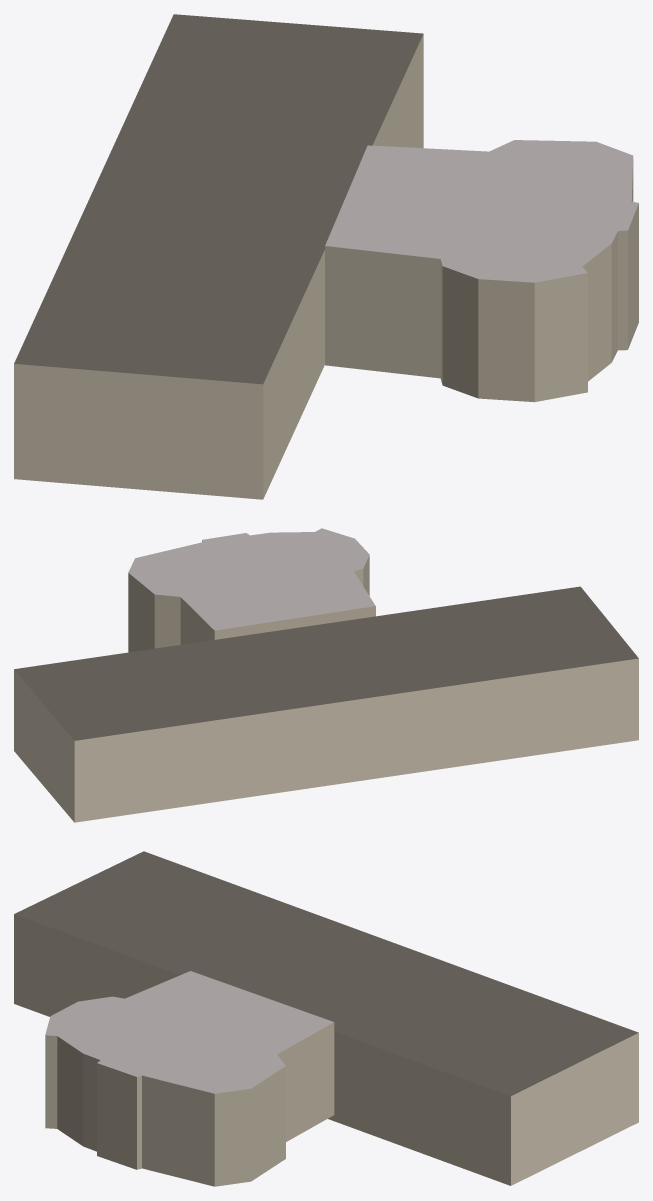
3 renders of one model, top to bottom at view 1: azimuth 30°, elevation 25°; view 2: azimuth 150°, elevation 25°; view 3: azimuth 270°, elevation 25°, orthographic. The views are drawn at different scales.
Parts seen in each view (by area): view 1: tuile; view 2: tuile; view 3: tuile.
Part boxes in pixels (bbox=[...]): tuile: bbox=[14, 14, 638, 499]; tuile: bbox=[14, 528, 638, 822]; tuile: bbox=[14, 851, 638, 1186].
Bounding box in the file's own units: 34.5 × 6.35 × 36.1.
